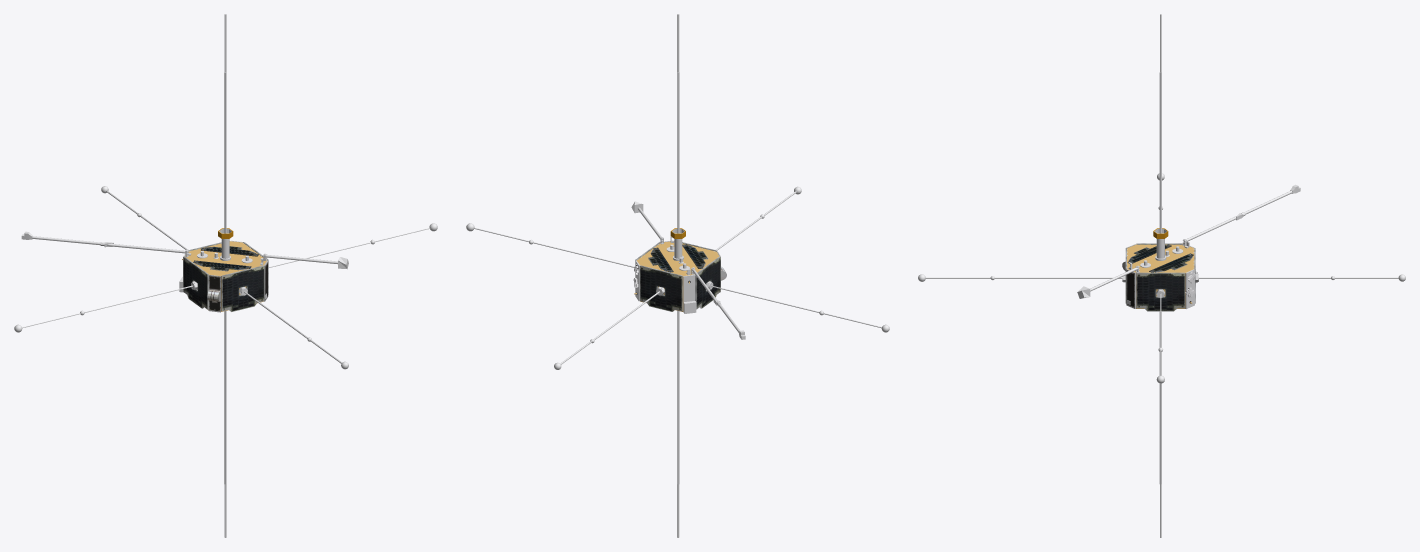
Rendered from themis.glb.
The picture shows the model from 3 angles, left to right: view 1: azimuth 30°, elevation 25°; view 2: azimuth 150°, elevation 25°; view 3: azimuth 270°, elevation 25°; orthographic projection.
Visible parts, largest first — view 1: foil_silver, shiny_panel, foil_gold; view 2: foil_silver, shiny_panel, foil_gold; view 3: foil_silver, shiny_panel, foil_gold.
Part boxes in pixels (bbox=[...]): foil_silver: bbox=[14, 14, 437, 537]; shiny_panel: bbox=[183, 228, 268, 312]; foil_gold: bbox=[182, 241, 266, 311]; foil_silver: bbox=[466, 14, 889, 537]; shiny_panel: bbox=[633, 228, 726, 311]; foil_gold: bbox=[634, 241, 719, 311]; foil_silver: bbox=[918, 14, 1405, 537]; shiny_panel: bbox=[1122, 228, 1195, 311]; foil_gold: bbox=[1127, 244, 1194, 308].
Size of the model in its own units: 6.09 by 7.21 by 6.09.
3 materials, 1 textured.
